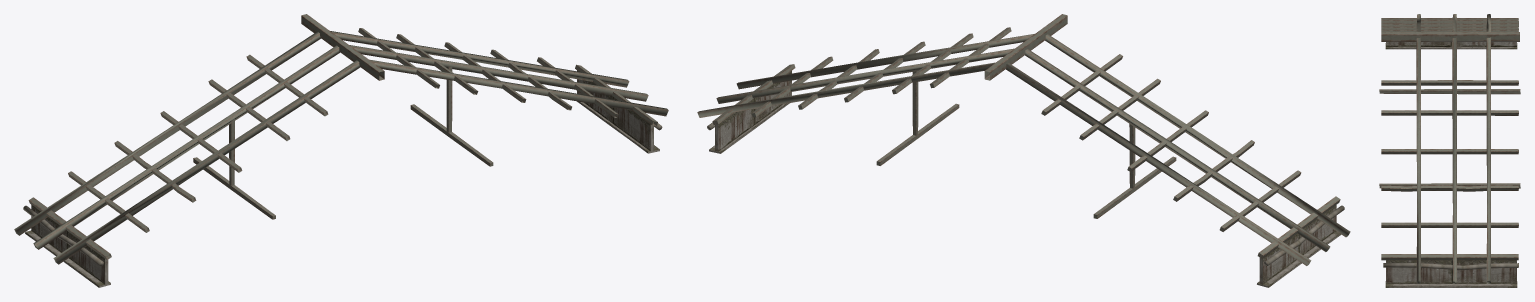
File: greenhouse_roof.fbx
3 views of the same model, side by side, from view 1: azimuth 30°, elevation 25°; view 2: azimuth 150°, elevation 25°; view 3: azimuth 270°, elevation 25° (orthographic). The views are drawn at different scales.
Visible parts, largest first — view 1: greenhouse_roof; view 2: greenhouse_roof; view 3: greenhouse_roof.
Boxes of the visible parts, x1,y1,x2,y2 form: greenhouse_roof: [14, 14, 668, 287]; greenhouse_roof: [697, 14, 1350, 287]; greenhouse_roof: [1379, 14, 1520, 287].
Size of the model in its own units: 1126 by 262 by 252.
